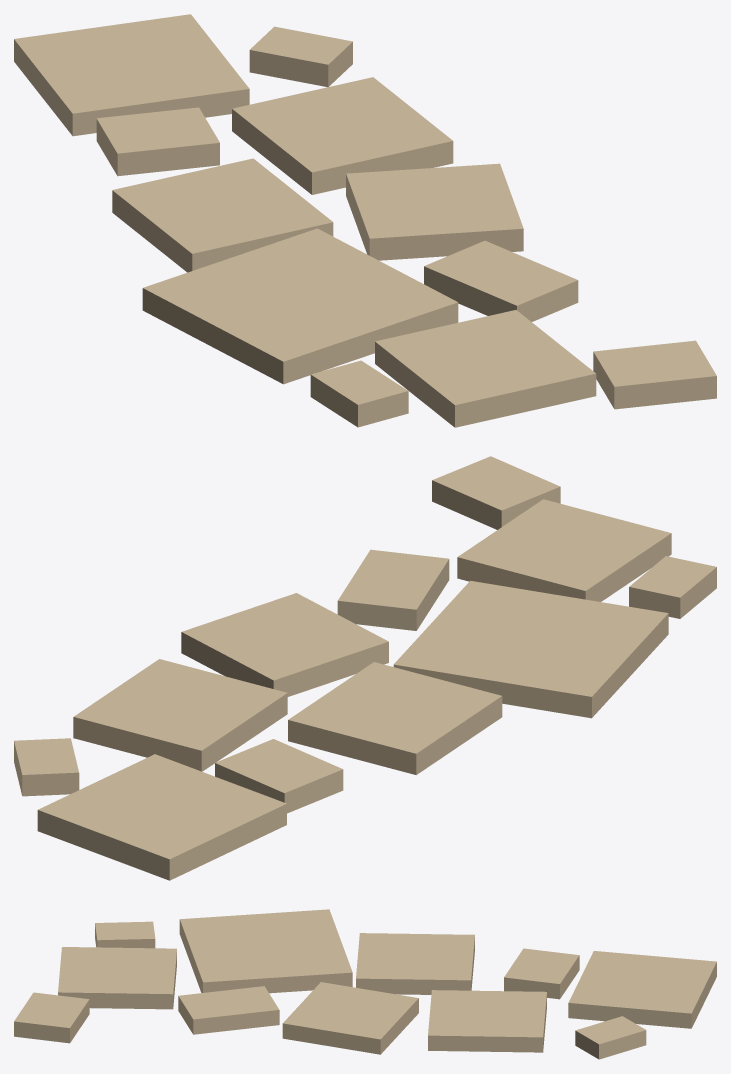
The model's file is cobblepath2.fbx.
The picture shows the model from 3 angles, top to bottom: view 1: azimuth 30°, elevation 25°; view 2: azimuth 150°, elevation 25°; view 3: azimuth 270°, elevation 25°; orthographic projection. The views are drawn at different scales.
Parts seen in each view (by area): view 1: cobblepath2; view 2: cobblepath2; view 3: cobblepath2.
Part boxes in pixels (x1,y1,x2,y2): cobblepath2: [14, 14, 716, 427]; cobblepath2: [14, 456, 716, 880]; cobblepath2: [14, 909, 716, 1059].
Size of the model in its own units: 3.05 by 0.1601 by 6.7.
